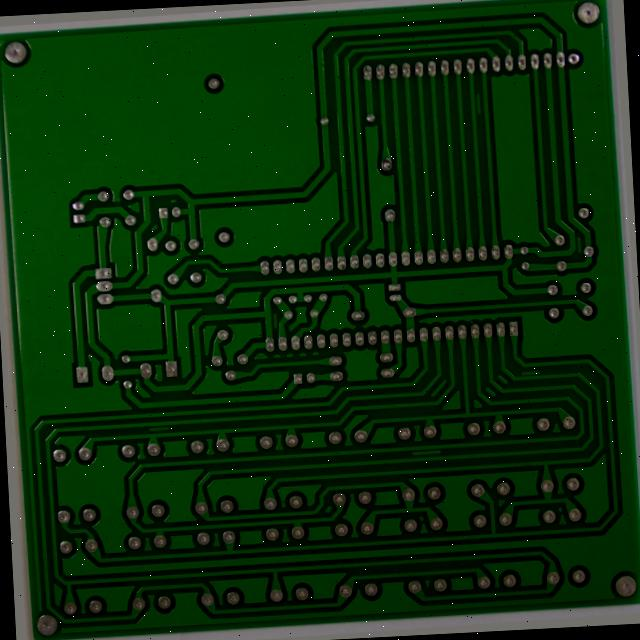spurious_copper: (406, 449, 444, 465), (520, 371, 549, 385), (141, 421, 166, 436), (479, 88, 492, 116), (578, 236, 591, 261)
